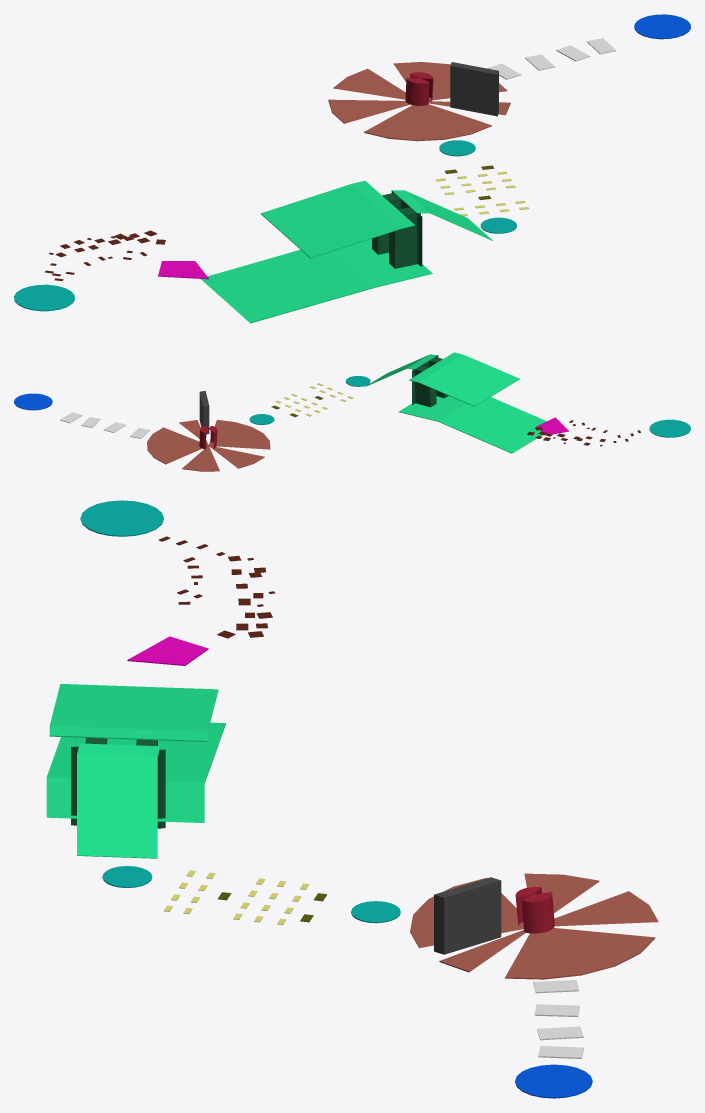
File: blockouttest.fbx
3 views of the same model, one above another, from view 1: azimuth 30°, elevation 25°; view 2: azimuth 150°, elevation 25°; view 3: azimuth 270°, elevation 25° (orthographic). The views are drawn at different scales.
Visible parts, largest first — view 1: pasted__pCube20, pasted__pCylinder4, pasted__pCube19, pasted__pCube86, pasted__pCylinder1, pCube1, pasted__pCylinder8, pCube4, pasted__pCylinder5, pasted__pCube18, pasted__pCylinder7, pasted__pCylinder6 (+1 smaller); view 2: pasted__pCube20, pasted__pCylinder4, pasted__pCube19, pasted__pCylinder1, pasted__pCylinder8, pCube2, pasted__pCube86, pCube4, pasted__pCube18, pasted__pCylinder5, pasted__pCylinder7, pasted__pCylinder6; view 3: pasted__pCylinder4, pCube4, pasted__pCube19, pasted__pCube20, pasted__pCube86, pasted__pCylinder1, pasted__pCylinder8, pasted__pCylinder5, pasted__pCube18, pCube3, pasted__pCylinder6, pasted__pCylinder7.
Part boxes in pixels (left/top/right/bottom): pasted__pCube20: left=201, top=238, right=432, bottom=323; pasted__pCylinder4: left=328, top=62, right=510, bottom=141; pasted__pCube19: left=260, top=180, right=414, bottom=258; pasted__pCube86: left=450, top=62, right=498, bottom=116; pasted__pCylinder1: left=14, top=284, right=74, bottom=311; pCube1: left=389, top=207, right=420, bottom=268; pasted__pCylinder8: left=634, top=14, right=690, bottom=39; pCube4: left=392, top=190, right=492, bottom=240; pasted__pCylinder5: left=405, top=72, right=433, bottom=105; pasted__pCube18: left=158, top=261, right=208, bottom=279; pasted__pCylinder7: left=439, top=140, right=475, bottom=156; pasted__pCylinder6: left=480, top=217, right=516, bottom=233; pasted__pCube20: left=398, top=396, right=546, bottom=453; pasted__pCylinder4: left=147, top=419, right=270, bottom=471; pasted__pCube19: left=409, top=352, right=519, bottom=406; pasted__pCylinder1: left=649, top=419, right=690, bottom=437; pasted__pCylinder8: left=14, top=393, right=52, bottom=410; pCube2: left=412, top=366, right=436, bottom=407; pasted__pCube86: left=199, top=390, right=209, bottom=434; pCube4: left=364, top=354, right=437, bottom=387; pasted__pCube18: left=536, top=417, right=568, bottom=434; pasted__pCylinder5: left=199, top=426, right=217, bottom=449; pasted__pCylinder7: left=249, top=414, right=274, bottom=424; pasted__pCylinder6: left=345, top=376, right=370, bottom=386; pasted__pCylinder4: left=410, top=873, right=658, bottom=979; pCube4: left=77, top=743, right=160, bottom=858; pasted__pCube19: left=49, top=684, right=218, bottom=741; pasted__pCube20: left=46, top=722, right=225, bottom=822; pasted__pCube86: left=434, top=877, right=501, bottom=954; pasted__pCylinder1: left=80, top=500, right=163, bottom=536; pasted__pCylinder8: left=515, top=1064, right=592, bottom=1098; pasted__pCylinder5: left=515, top=887, right=554, bottom=933; pasted__pCube18: left=127, top=636, right=208, bottom=665; pCube3: left=71, top=746, right=165, bottom=828; pasted__pCylinder6: left=102, top=866, right=152, bottom=887; pasted__pCylinder7: left=351, top=901, right=400, bottom=923.
Bounding box in the file's own units: 2076 × 157 × 975.
